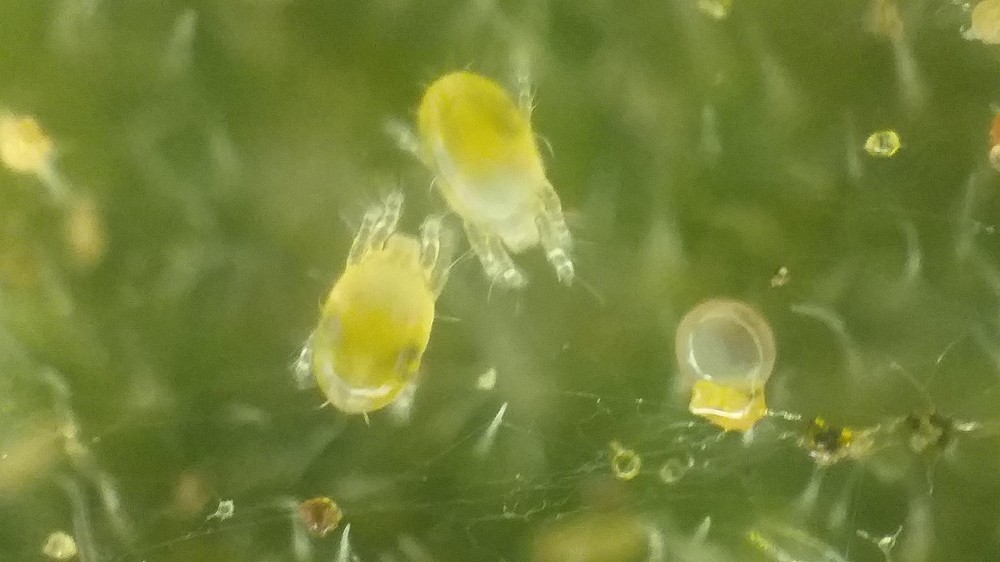Aracnido Rojo: (397, 58, 606, 298), (286, 195, 475, 428)
